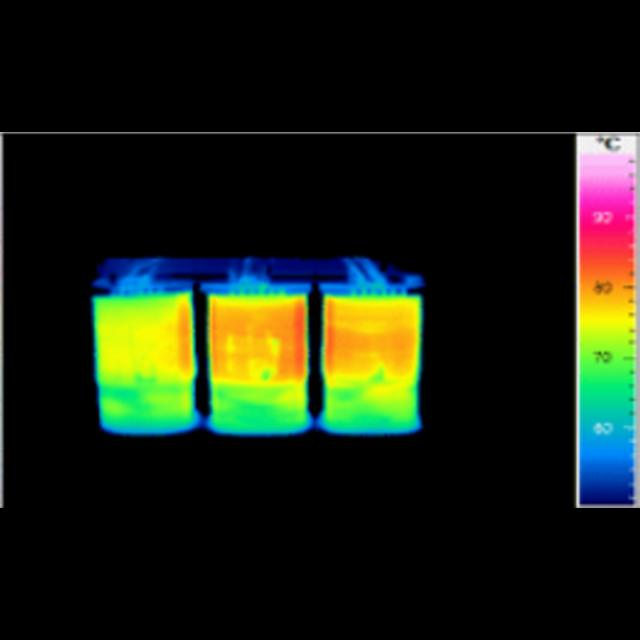loose_joint_yellow: (259, 285, 266, 297), (361, 286, 367, 297), (279, 286, 286, 295), (239, 288, 245, 297), (382, 286, 387, 296), (351, 288, 356, 296)
